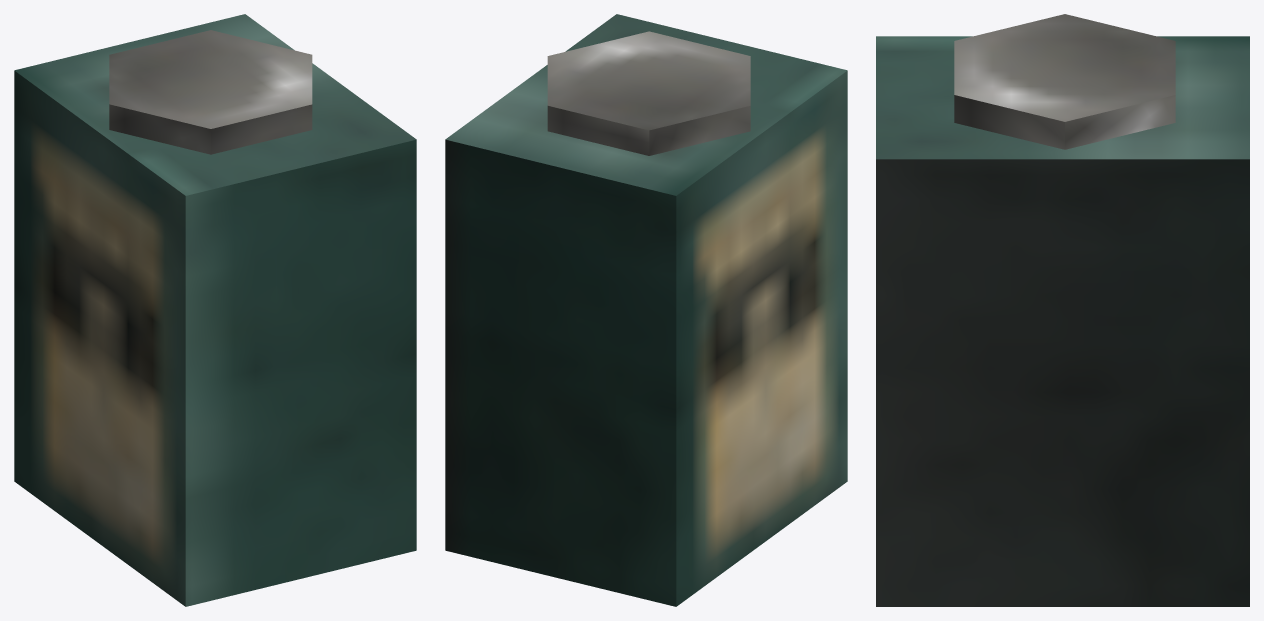
File: powder_jar.FBX
The picture shows the model from 3 angles, left to right: view 1: azimuth 30°, elevation 25°; view 2: azimuth 150°, elevation 25°; view 3: azimuth 270°, elevation 25°; orthographic projection. The views are drawn at different scales.
Visible parts, largest first — view 1: InventoryItem_FlashPowderBox; view 2: InventoryItem_FlashPowderBox; view 3: InventoryItem_FlashPowderBox.
Part boxes in pixels (box(x1,y1,x2,y2)): InventoryItem_FlashPowderBox: box(14, 14, 416, 606); InventoryItem_FlashPowderBox: box(445, 14, 847, 606); InventoryItem_FlashPowderBox: box(876, 14, 1249, 606).
Size of the model in its own units: 80.89 by 104 by 146.
1 material, 1 textured.
